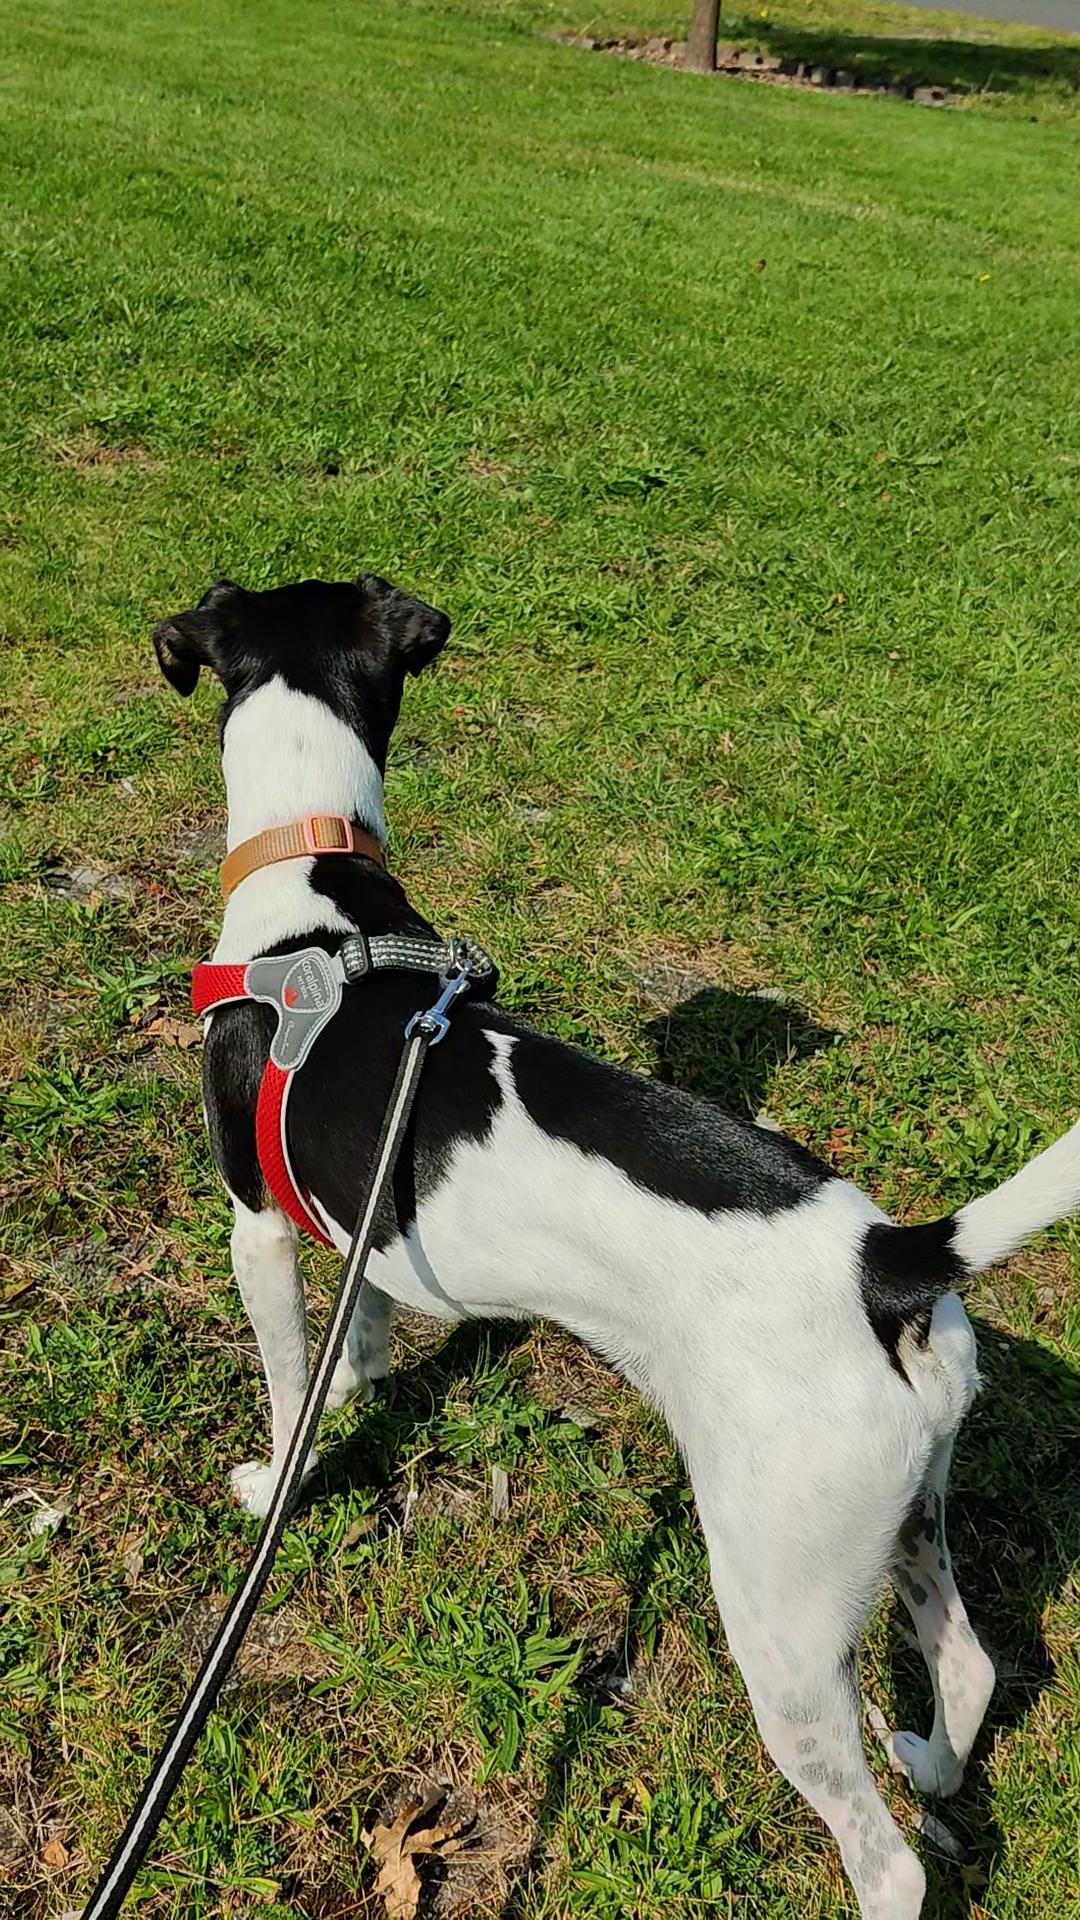Dog: (131, 542, 1079, 1919)
